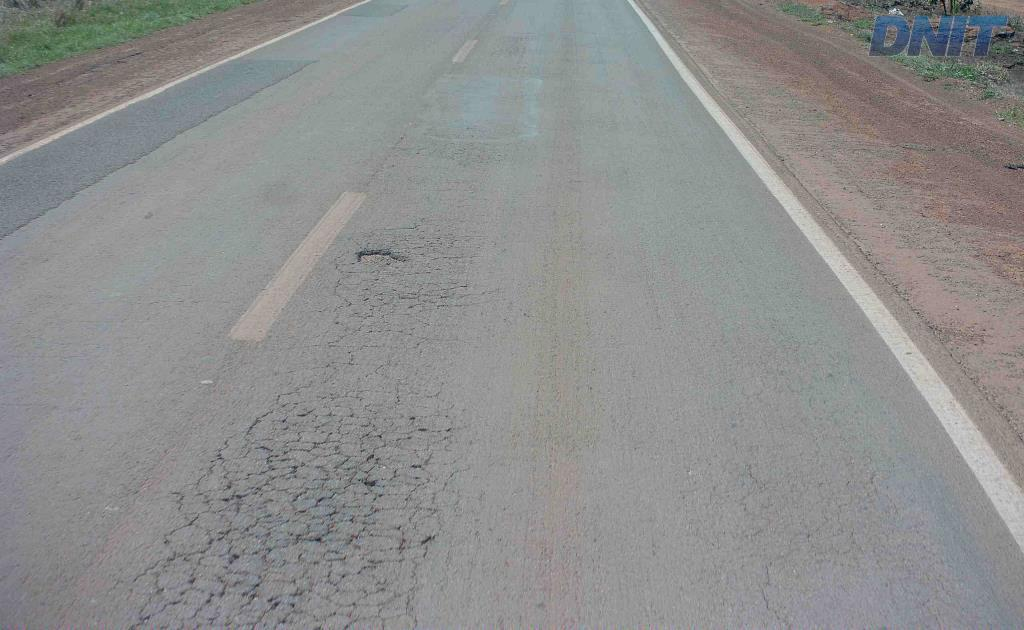crack: (212, 461, 305, 514), (162, 521, 233, 568), (239, 545, 275, 609), (291, 504, 339, 545)
pothole: (353, 245, 413, 269)
